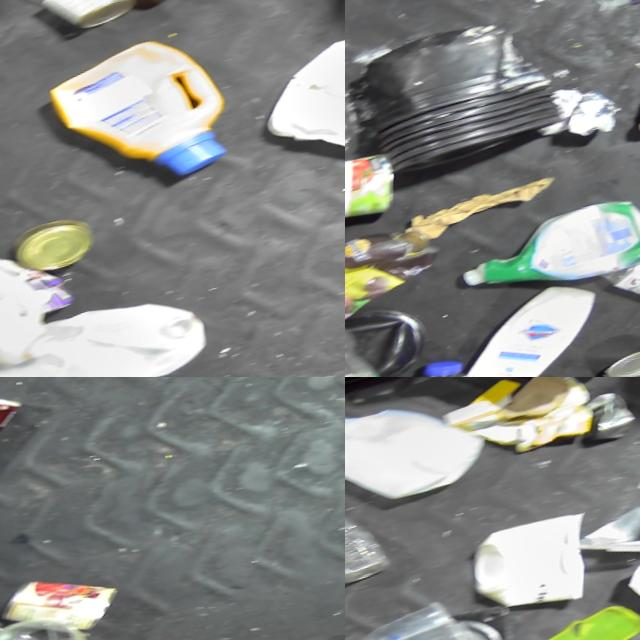can: (0, 557, 124, 640), (2, 209, 102, 279), (345, 141, 409, 238), (32, 0, 144, 39), (592, 336, 640, 377)
milk_jug: (0, 280, 220, 377), (345, 382, 495, 517), (0, 227, 65, 374)
non_white_jug: (39, 24, 244, 203)
plastic_bottle: (345, 479, 394, 592), (349, 350, 498, 377)
